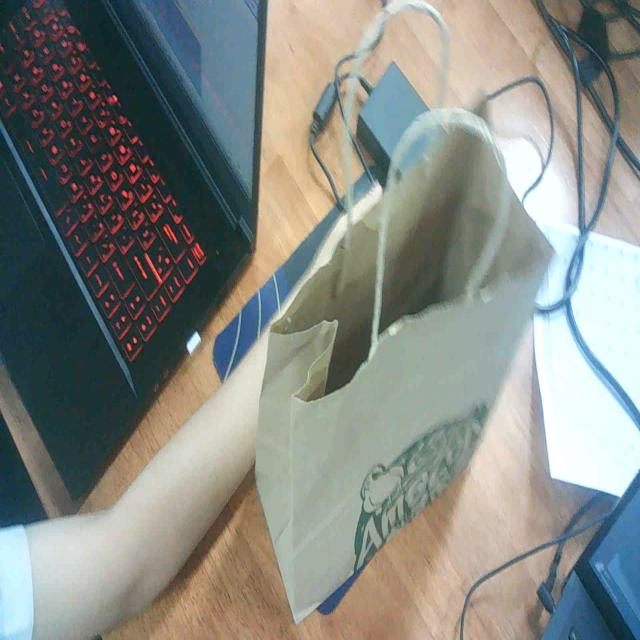bag: (261, 119, 534, 640)
